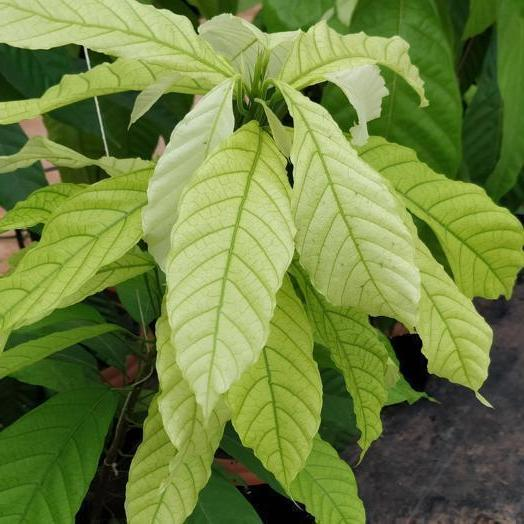Iron: (166, 121, 295, 417), (278, 82, 419, 320), (359, 138, 523, 298), (0, 172, 148, 333), (0, 0, 232, 91)
